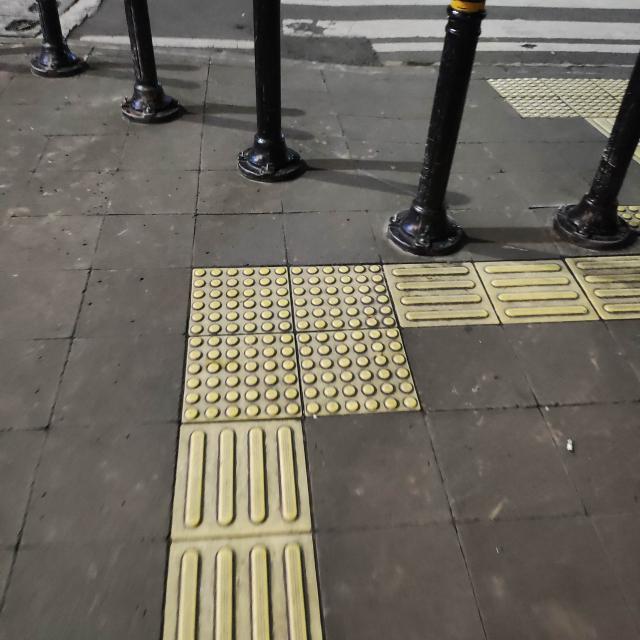kanan: (126, 222, 584, 485)
